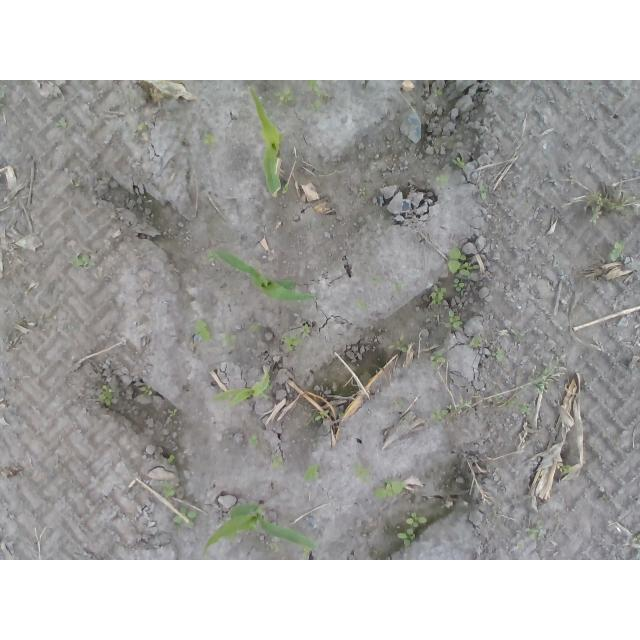Maize: (205, 501, 319, 551), (218, 247, 314, 301), (247, 87, 281, 194), (212, 367, 271, 406)
Weeds: (447, 247, 479, 293), (396, 512, 429, 547), (281, 324, 312, 353), (306, 80, 328, 112), (588, 191, 608, 225), (373, 479, 406, 498), (174, 506, 198, 530), (272, 85, 296, 106), (535, 367, 554, 393), (67, 255, 98, 270), (96, 384, 114, 408), (607, 239, 625, 262), (195, 319, 213, 342), (388, 335, 409, 353), (448, 307, 464, 330), (351, 463, 369, 482), (303, 463, 321, 481), (200, 129, 218, 145), (448, 151, 464, 169), (133, 120, 155, 133), (160, 480, 176, 497), (430, 288, 446, 305), (431, 351, 449, 366), (352, 298, 368, 314), (271, 456, 286, 473), (431, 409, 449, 422), (557, 463, 577, 474), (209, 248, 224, 262), (221, 334, 237, 347), (492, 347, 505, 362), (518, 403, 533, 416), (139, 384, 153, 397), (480, 183, 490, 201), (512, 331, 528, 342), (371, 273, 383, 287), (0, 80, 8, 100), (249, 322, 262, 334), (313, 411, 328, 421), (607, 201, 623, 210), (436, 175, 449, 186), (471, 335, 482, 348), (248, 432, 256, 449), (55, 115, 65, 128), (432, 87, 445, 97), (393, 282, 402, 296), (529, 527, 540, 538), (167, 453, 177, 465), (631, 150, 640, 163), (271, 543, 282, 553), (69, 180, 82, 188), (257, 95, 267, 105), (279, 183, 289, 193), (392, 399, 401, 409), (505, 400, 516, 408), (305, 545, 312, 556), (633, 533, 640, 544), (336, 408, 345, 416), (168, 408, 177, 416), (359, 187, 366, 197), (495, 395, 505, 402), (464, 401, 472, 408), (234, 240, 241, 245)
